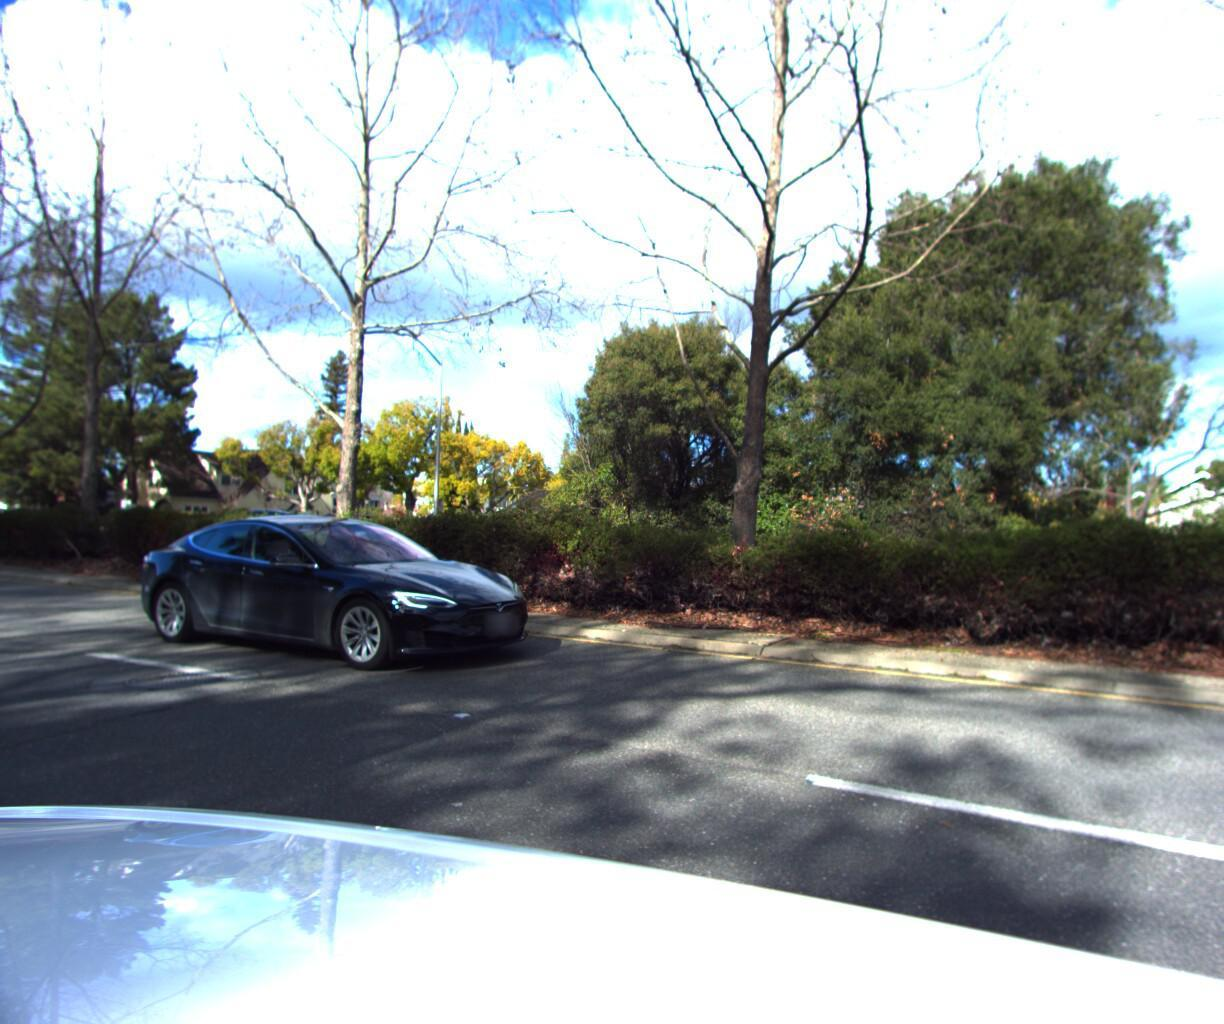car: (107, 503, 572, 688)
